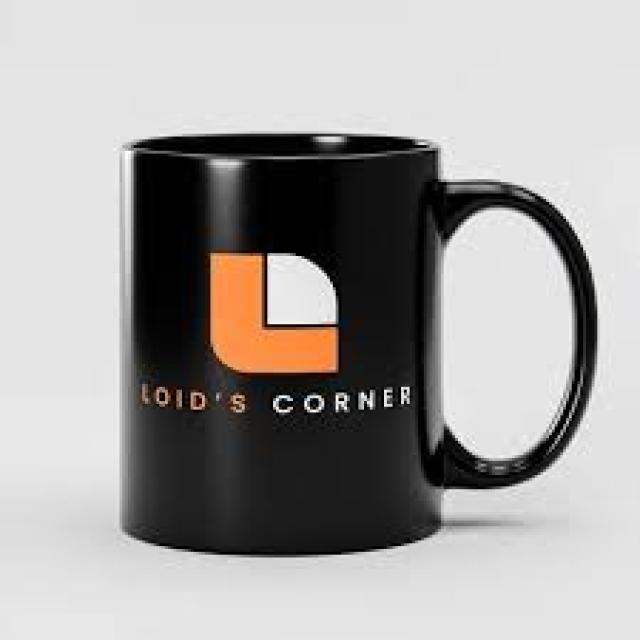taza: (118, 131, 596, 558)
